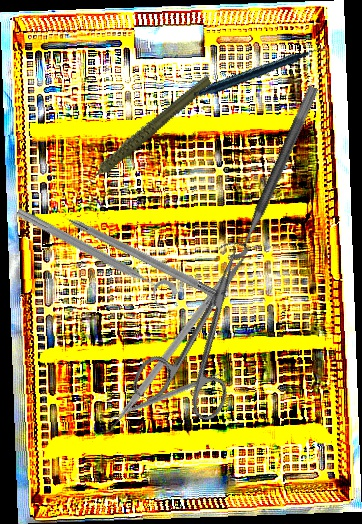Chopper: (89, 268, 230, 445)
Fixation Ring: (216, 78, 321, 263), (8, 202, 181, 314)
Handpiece: (61, 74, 228, 187), (197, 18, 329, 128)
Hook Surgical: (46, 202, 228, 304)
Iris Scissors: (128, 235, 285, 430)
Spatula Surgical: (101, 364, 232, 428)
